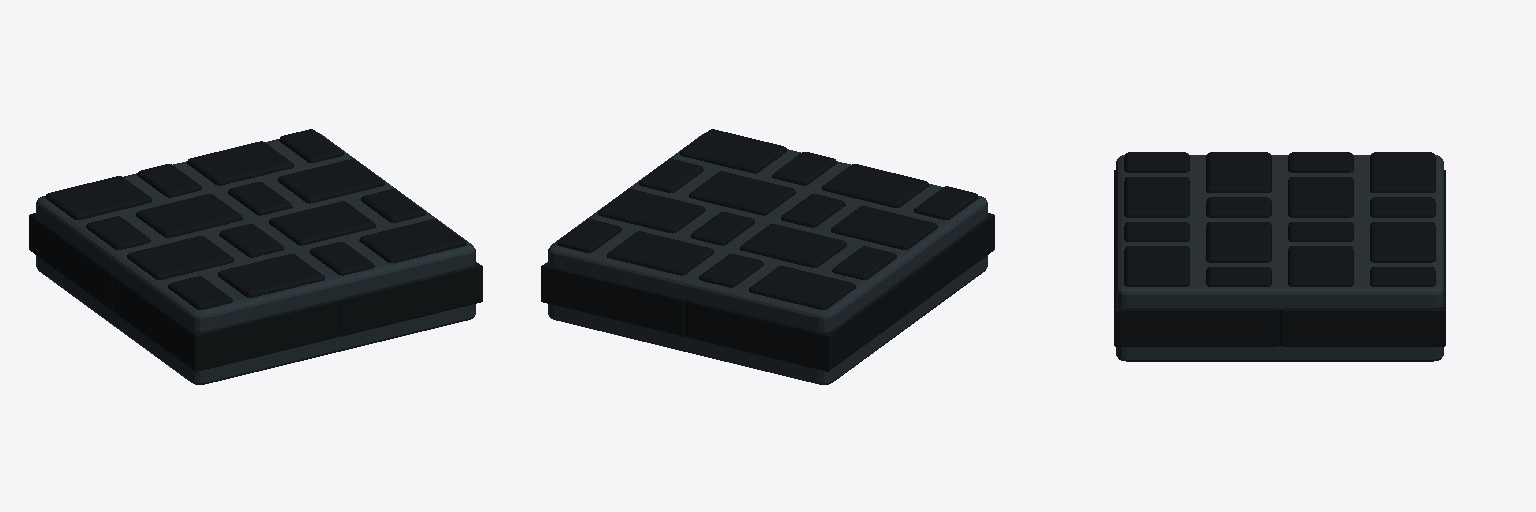
File: tileBrickA_medium.obj
3 renders of one model, left to right at view 1: azimuth 30°, elevation 25°; view 2: azimuth 150°, elevation 25°; view 3: azimuth 270°, elevation 25°, orthographic.
Parts seen in each view (by area): view 1: tileBrickA_medium_Cube.2537; view 2: tileBrickA_medium_Cube.2537; view 3: tileBrickA_medium_Cube.2537.
Part boxes in pixels (x1,y1,x2,y2): tileBrickA_medium_Cube.2537: (29, 129, 482, 384); tileBrickA_medium_Cube.2537: (541, 129, 994, 384); tileBrickA_medium_Cube.2537: (1114, 152, 1445, 361).
Bounding box in the file's own units: 4.05 × 1.06 × 4.05.